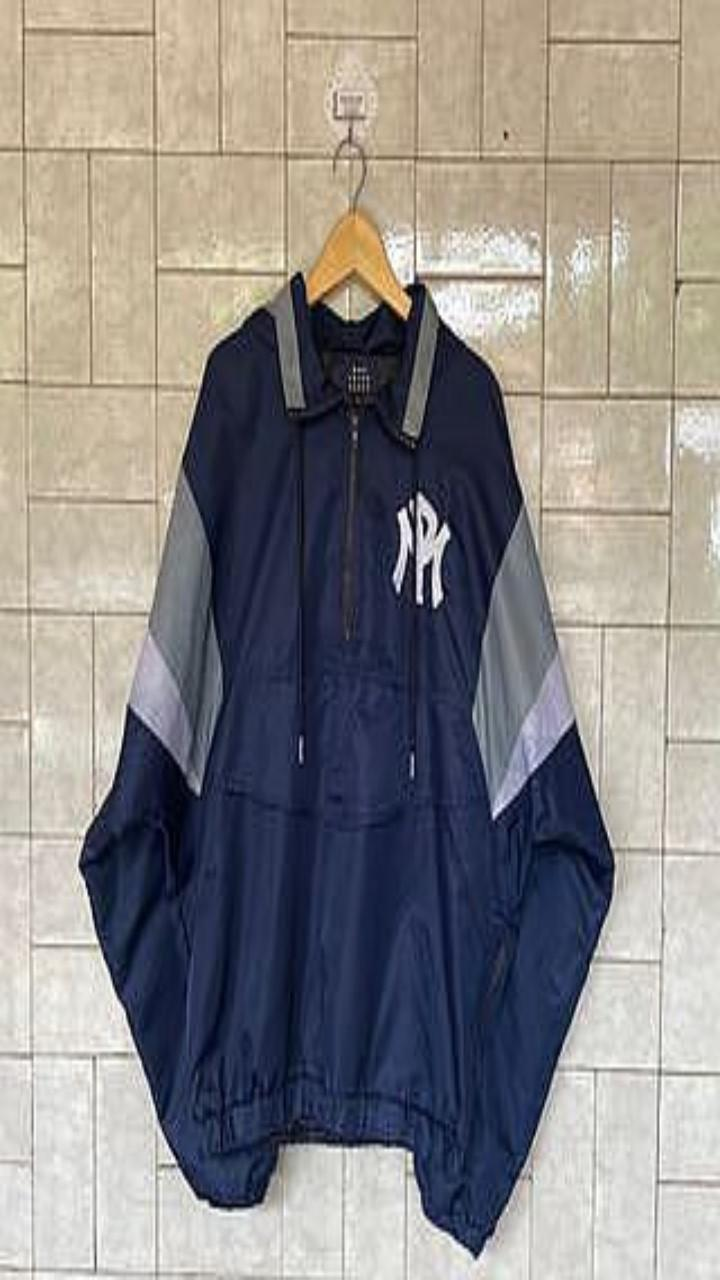Sports_Jacket: (78, 271, 613, 1255)
